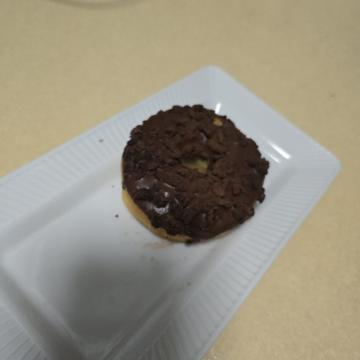doughnut: (87, 80, 265, 253)
